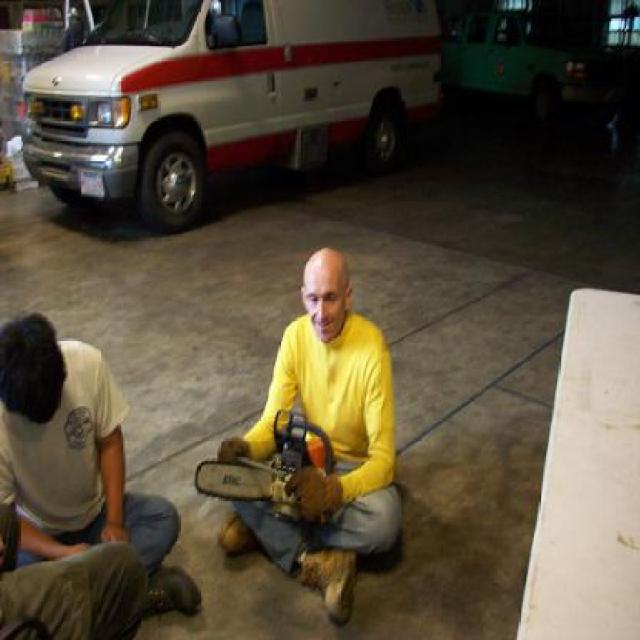Chainsaw: (191, 406, 335, 519)
